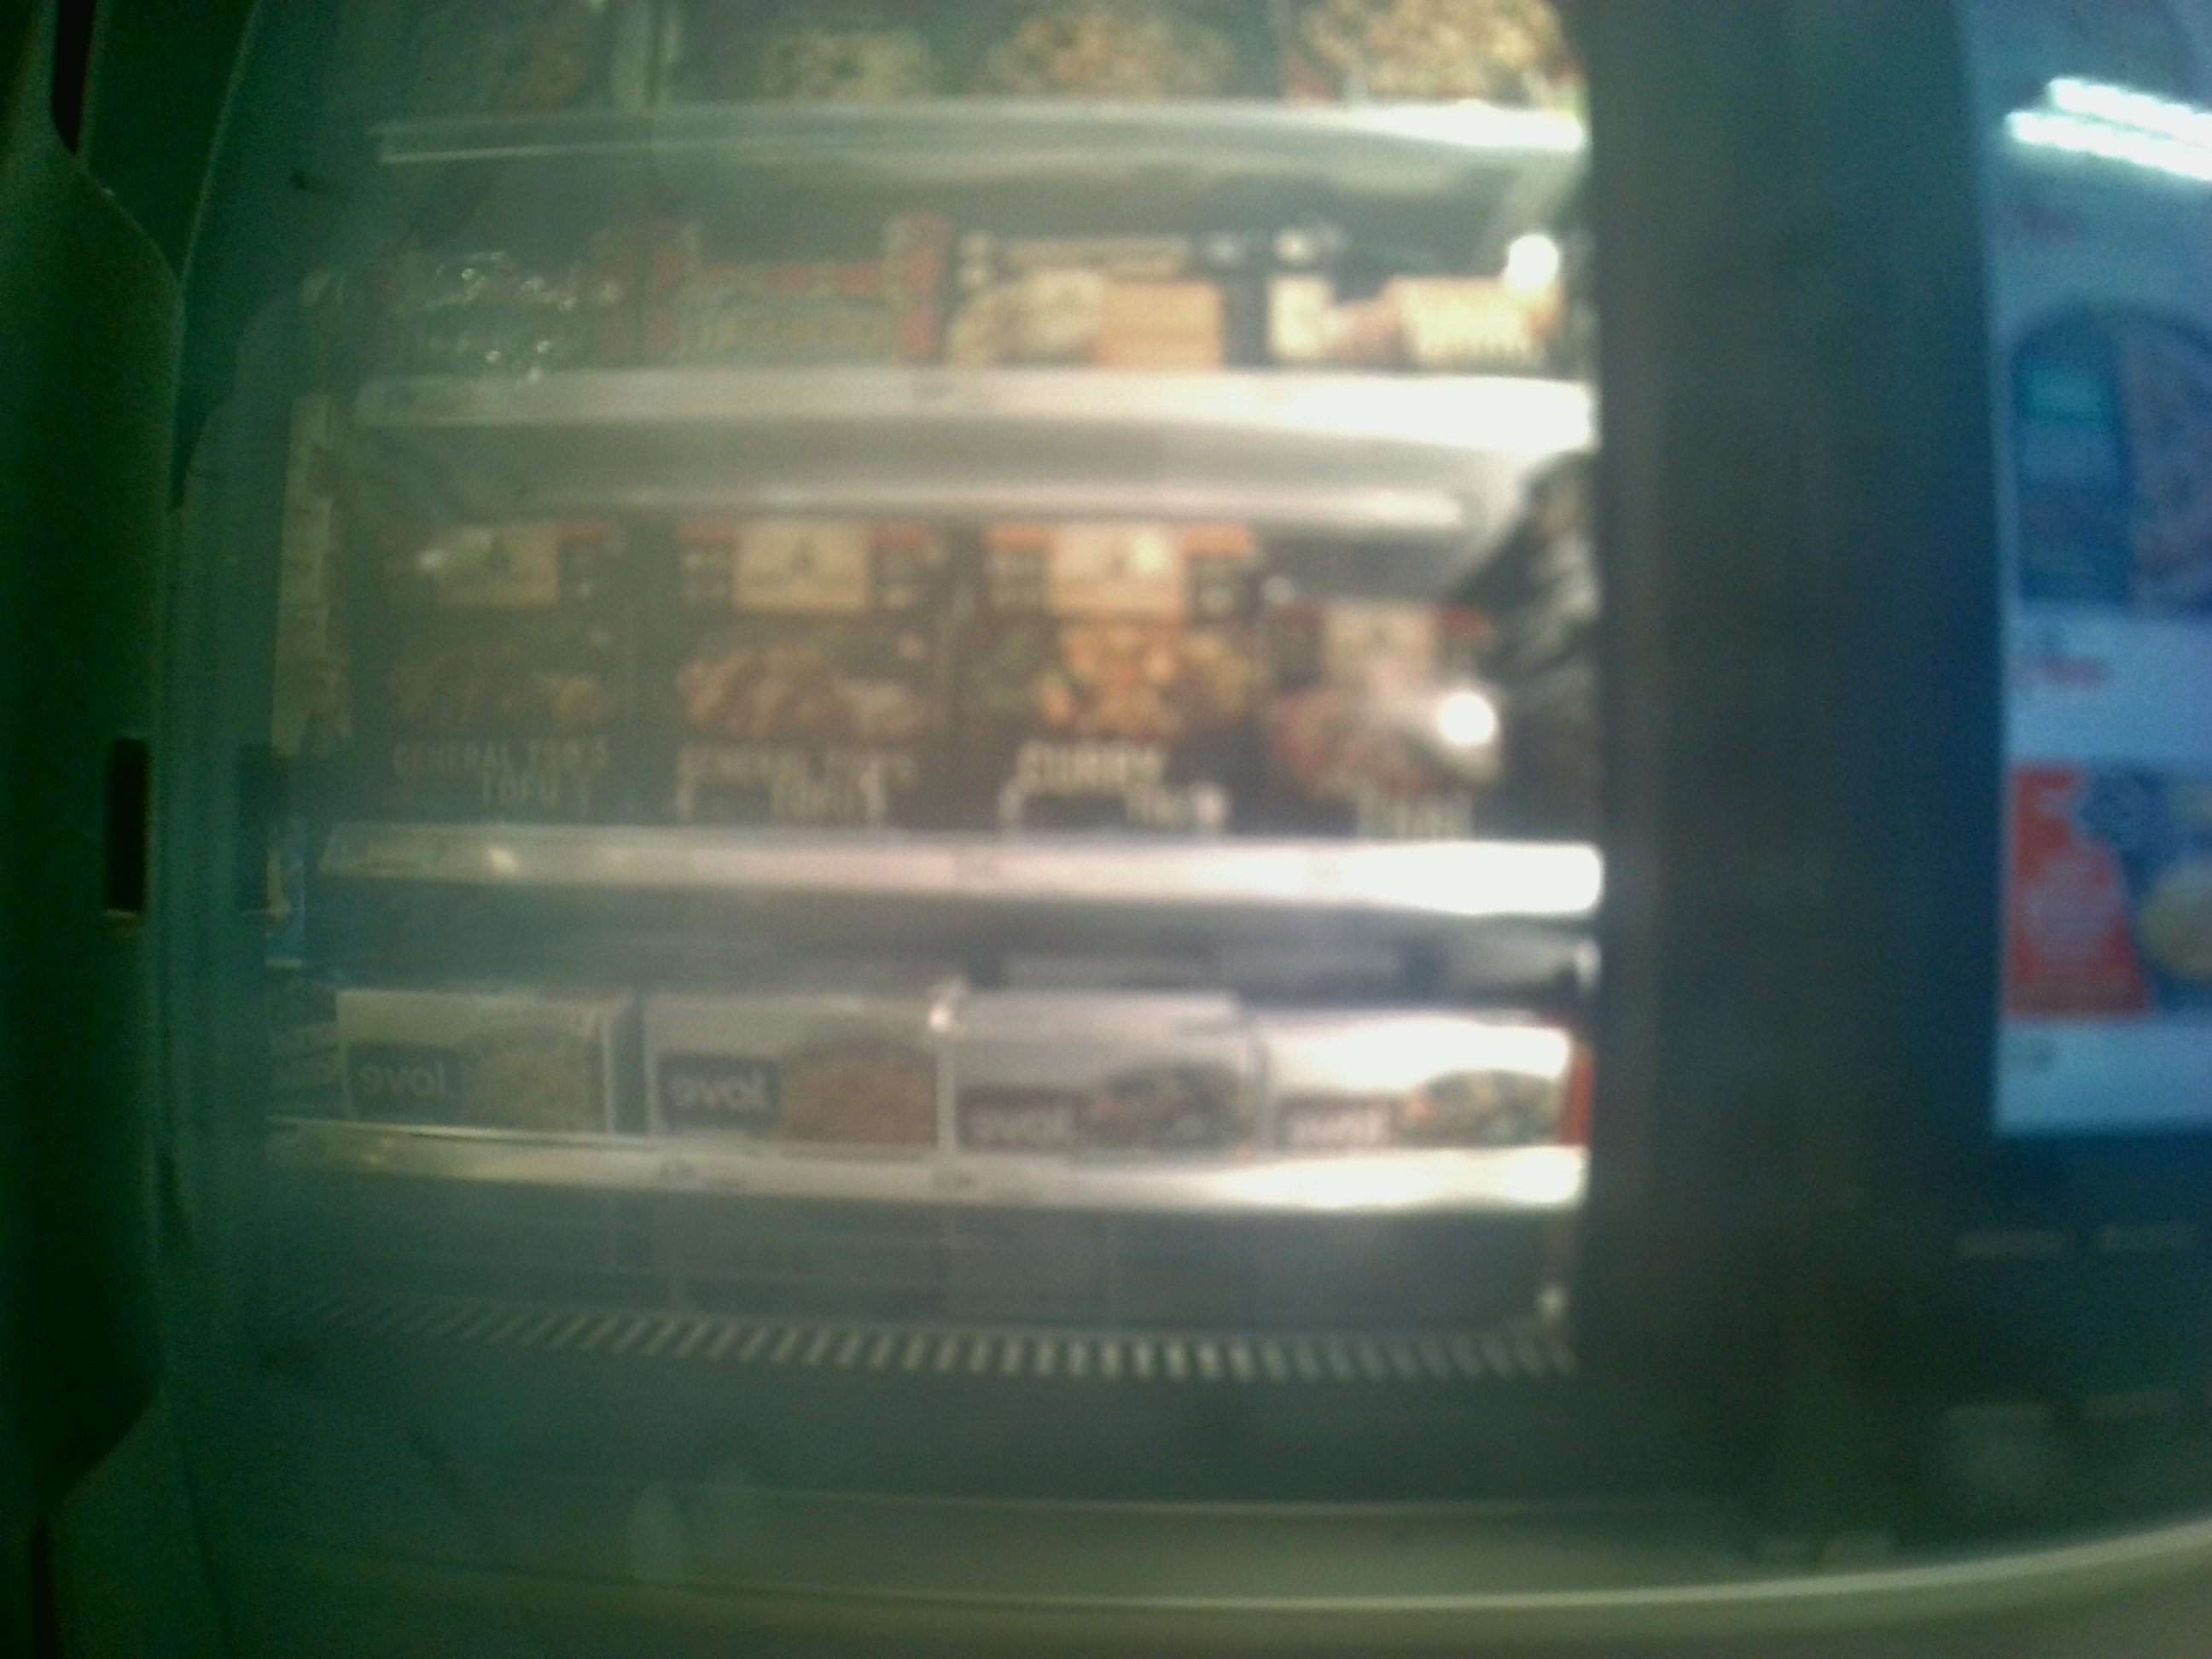frozen-food-shelf: (254, 446, 1618, 917), (251, 915, 1630, 1225), (254, 153, 1601, 446)
